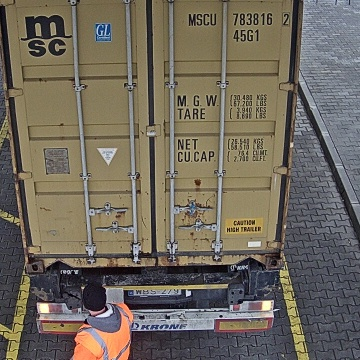serial_id: (188, 13, 289, 26)
